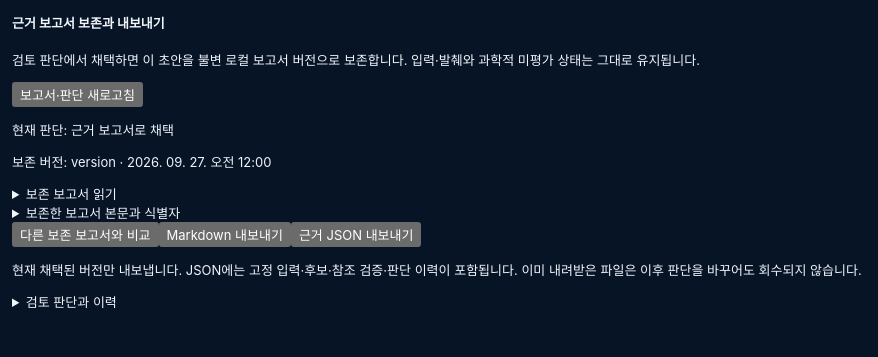
Test case: refuses export from stale displayed data when refreshing report status fails
Check: the text "현재 판단: 근거 보고서로 채택" is shown, box [12,122,174,138]
Click the button "보고서·판단 새로고침" at coordinates (78, 94), box [12,82,143,107]
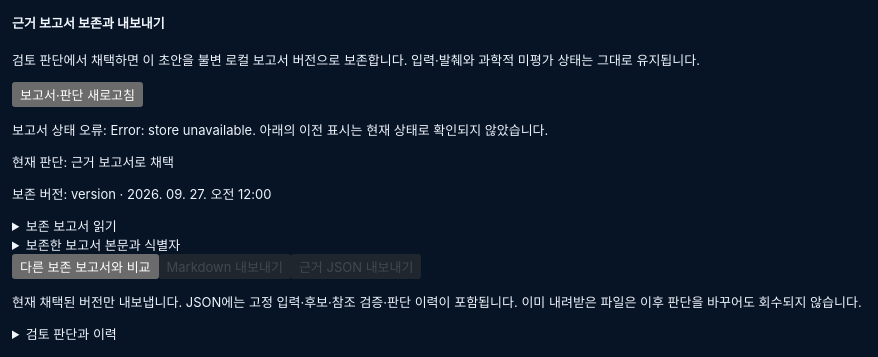
Check: the button "Markdown 내보내기" is disabled, box [159,254,291,279]
Check: the text "보고서 상태 오류: Error: store unavailable. 아래의 이전 표시는 현재 상태로 확인되지 않았습니다." is shown, box [12,122,548,138]
